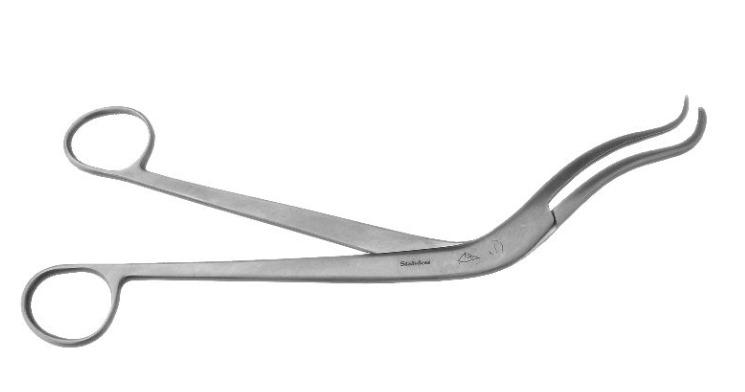Cheatle Forceps: (9, 85, 709, 354)
